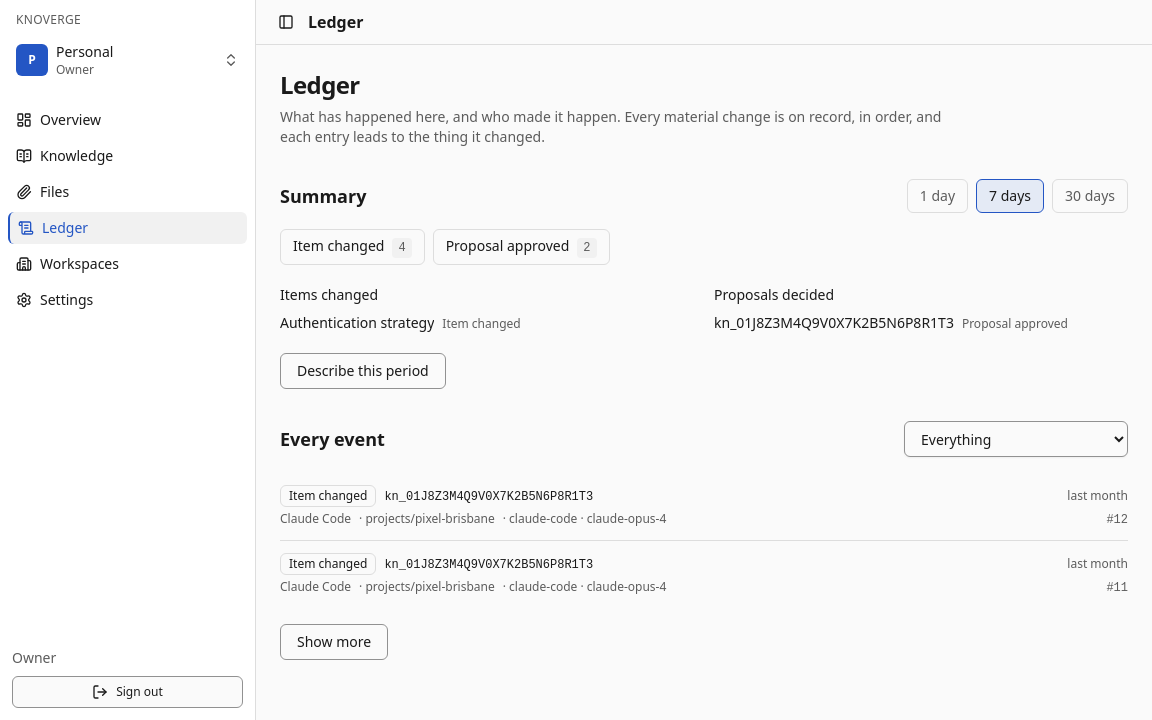
Test case: the feed › pages backwards, because it is read newest first
Click the button "Show more" at (334, 642), box [280, 624, 388, 660]
(page scrolled)
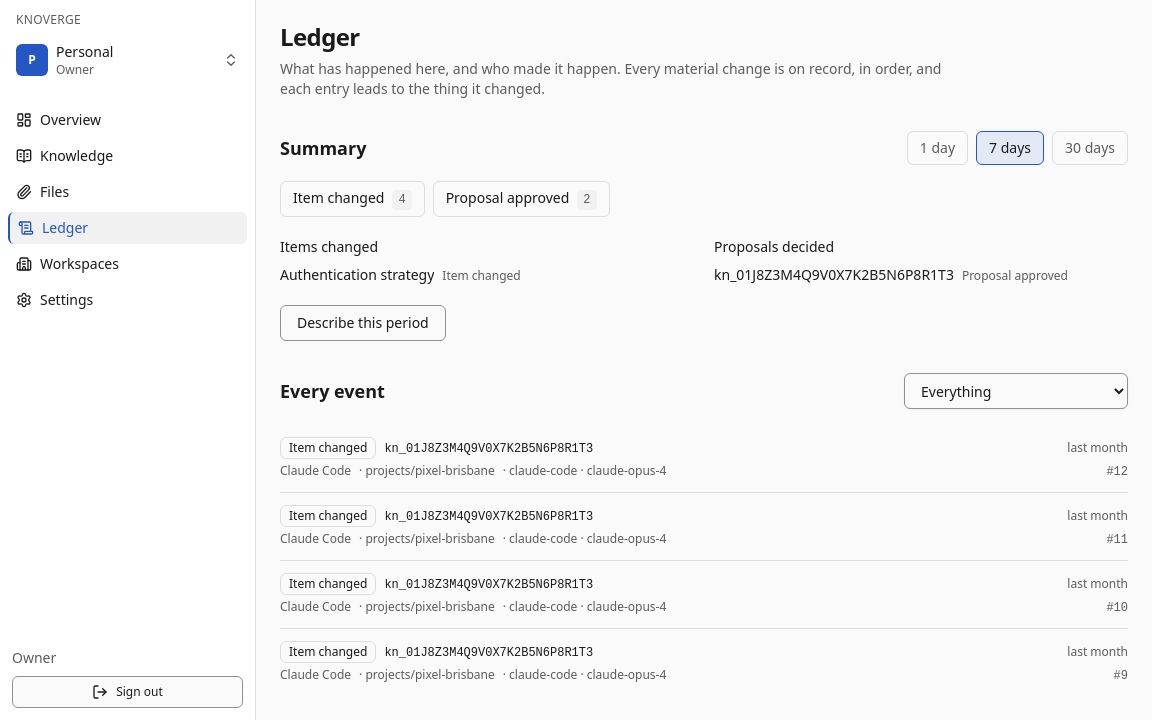
Expected: the text "#9" is shown, [1114, 668, 1128, 684]
Expected: the button "Show more" is gone
